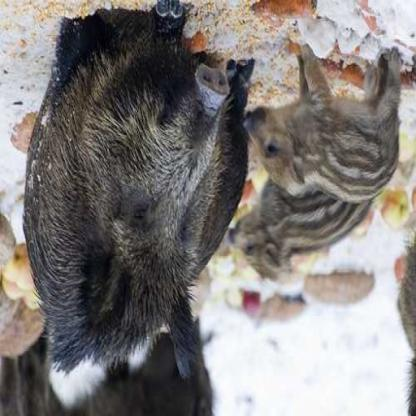boar: (8, 12, 255, 386), (236, 44, 415, 209), (241, 189, 364, 294)
